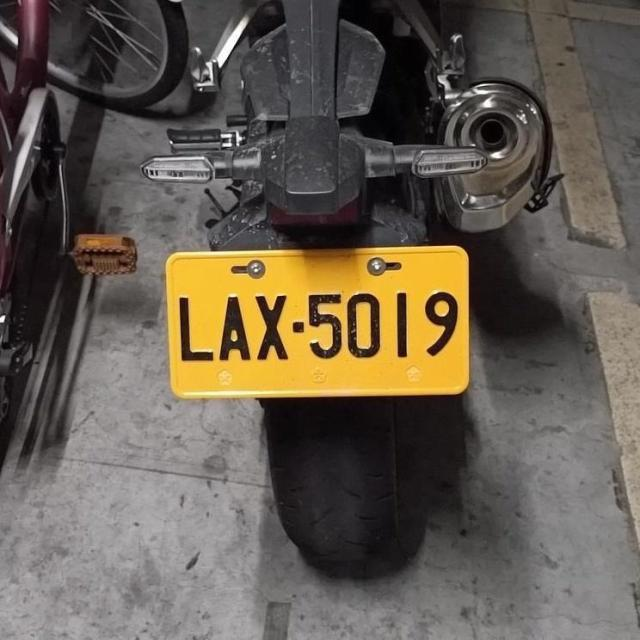Y: (156, 240, 478, 404)
